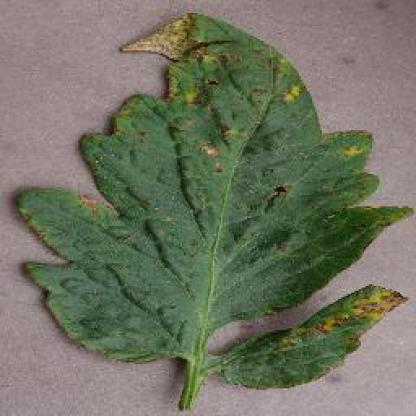bad leaf: (18, 17, 410, 411)
